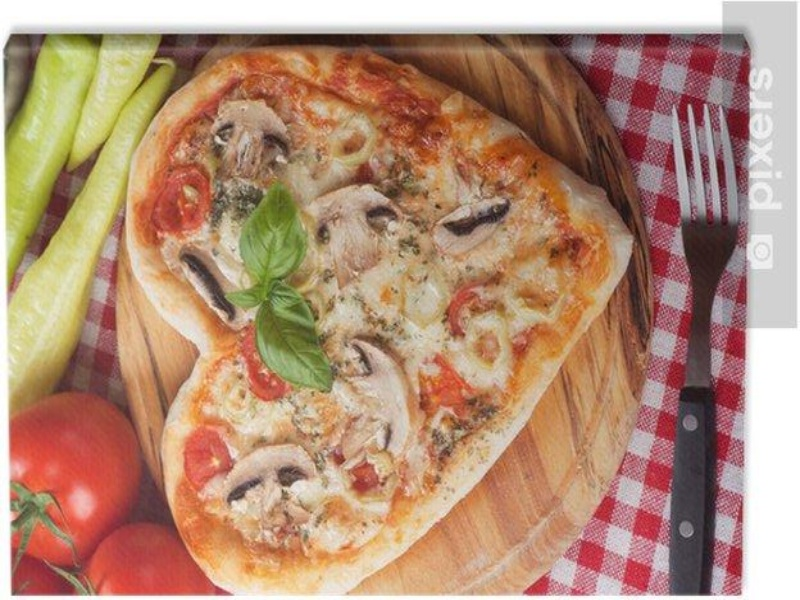champignon: (298, 178, 415, 287), (341, 335, 429, 460), (202, 96, 303, 192), (171, 237, 260, 344), (214, 438, 322, 516), (430, 193, 524, 261)
